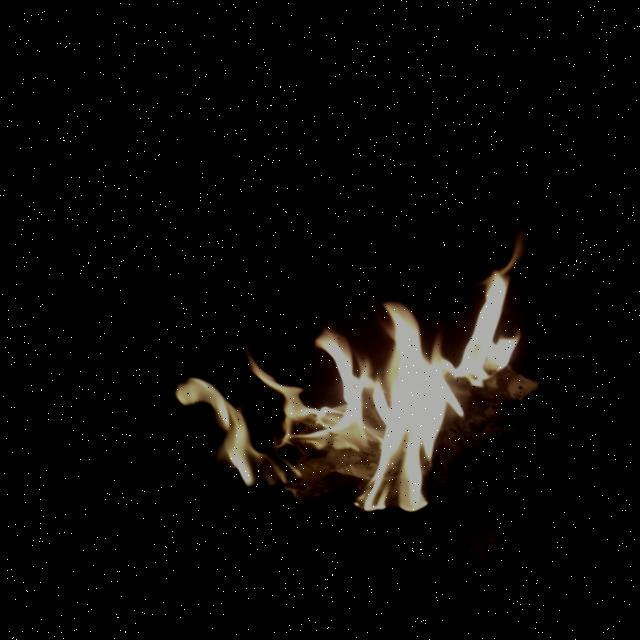Fire: (130, 170, 640, 598)
